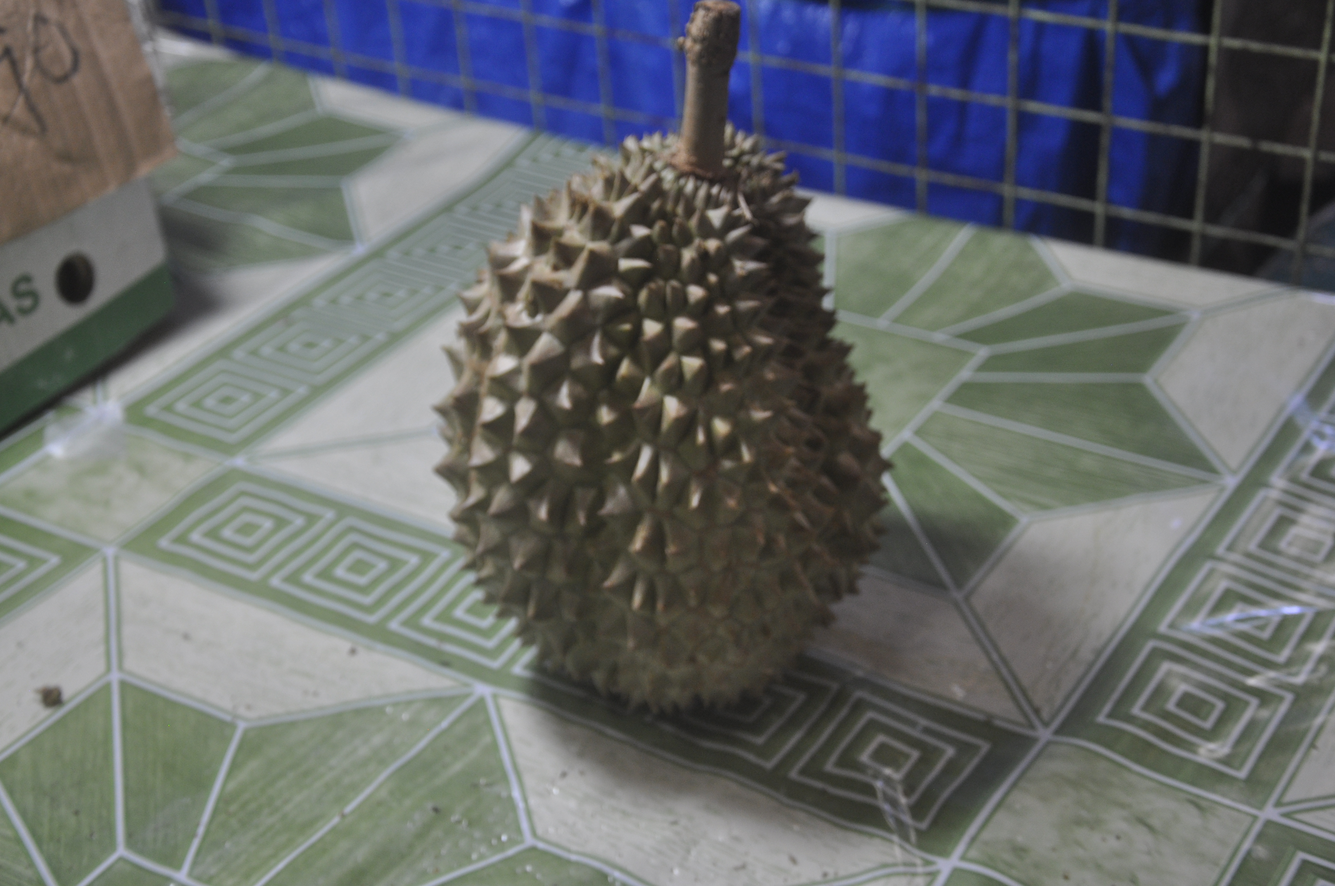mature: (428, 7, 938, 784)
